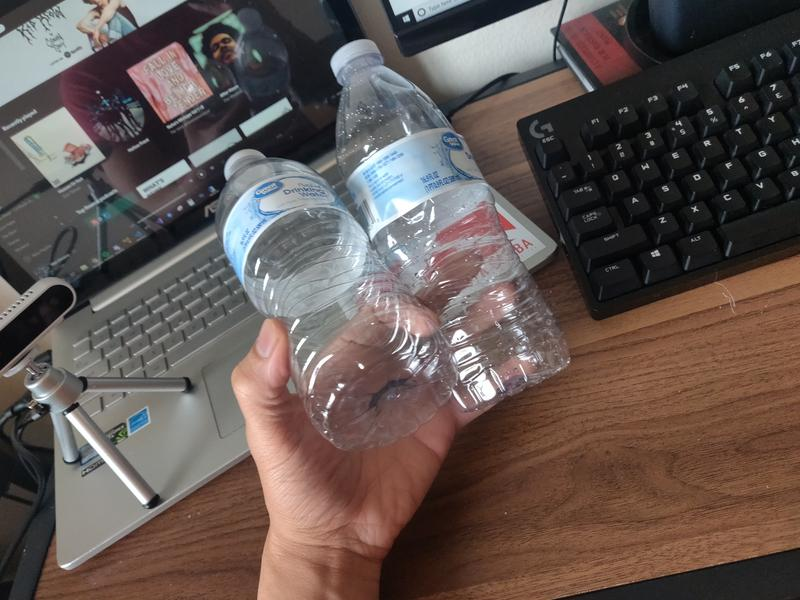bottle: (330, 39, 572, 413), (215, 149, 458, 450)
